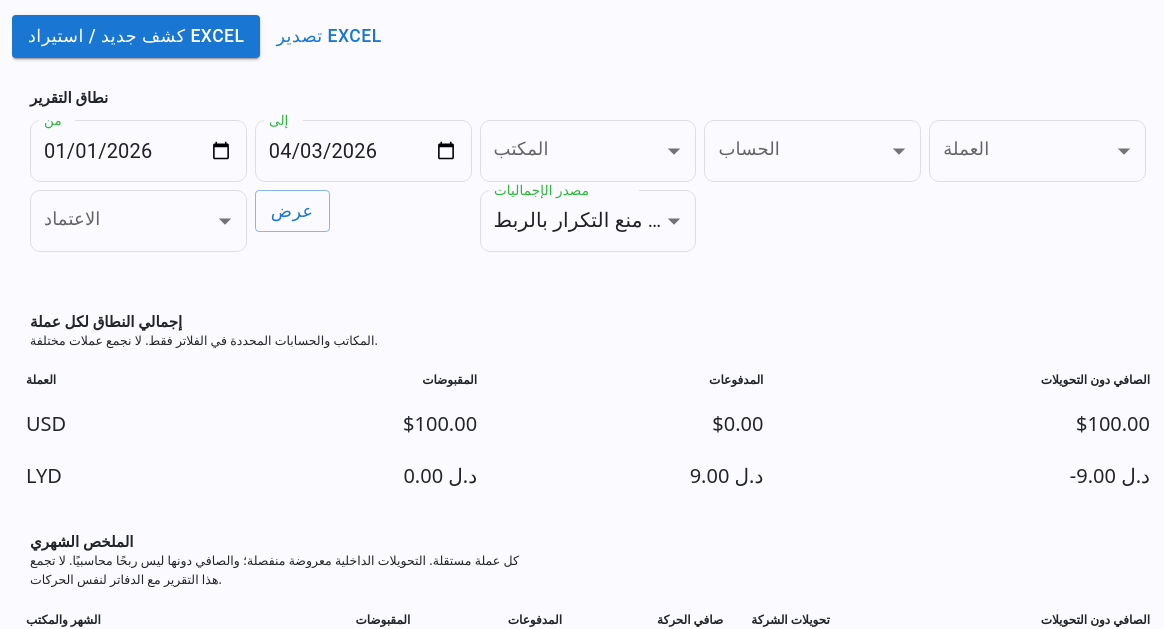
Scenario: report keeps currencies separate and exposes historical entry without labelling cash surplus profit
The width and height of the screenshot is (1164, 629).
Check: the text "USD" is shown, box [26,410,66,437]
Check: the text "LYD" is shown, box [26,462,62,489]
Click the button "كشف جديد / استيراد Excel" at coordinates (136, 37), box [12,15,260,58]
(page scrolled)
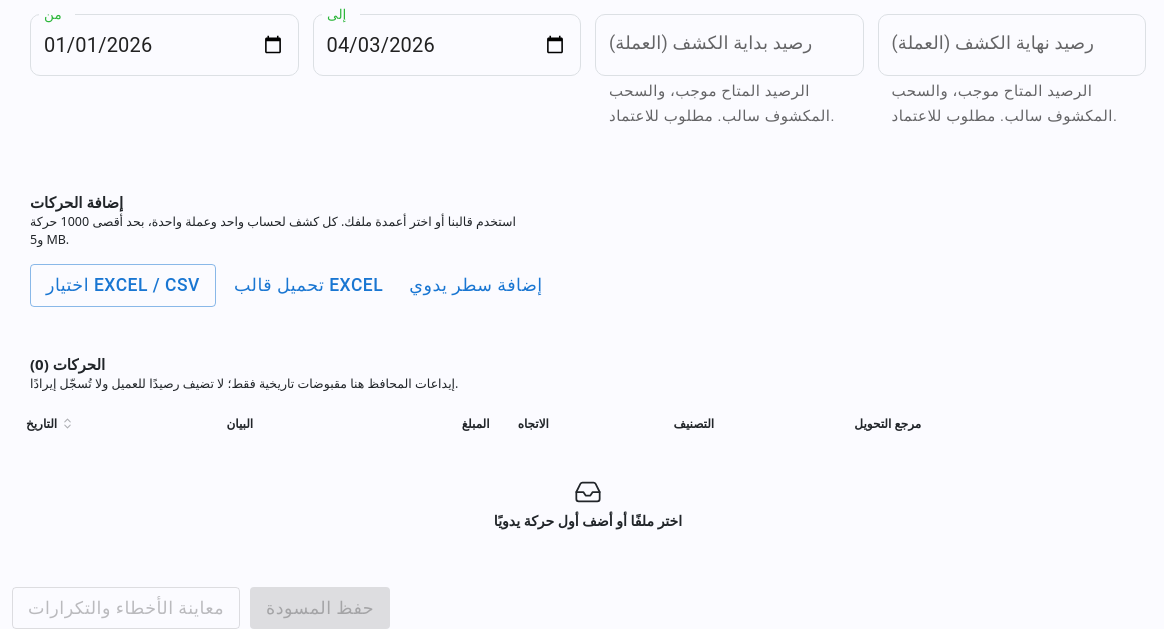
Check: the button "تحميل قالب Excel" is shown, box [226,264,391,307]
Check: the button "حفظ المسودة" is disabled, box [250,586,390,628]
